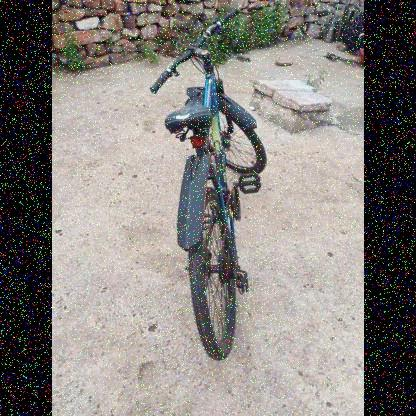Bicycle: (121, 2, 301, 378)
